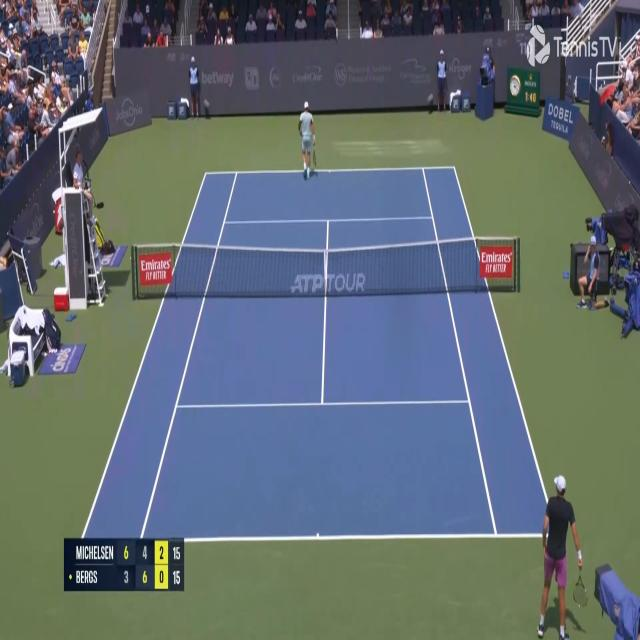tennis-player: (536, 473, 589, 640), (296, 98, 318, 180)
